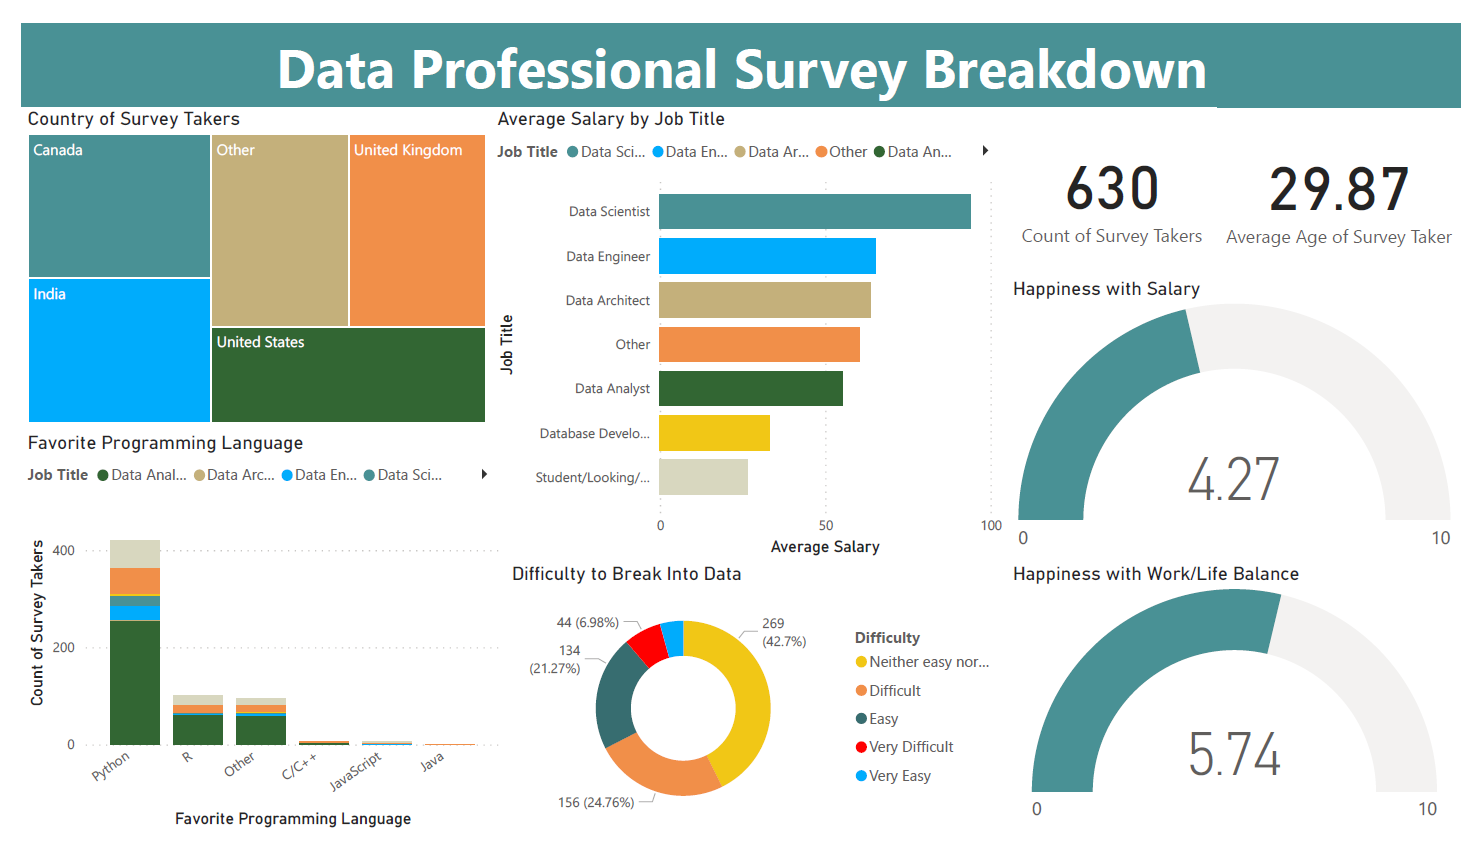

The page's visual inventory and layout, read from the dashboard file:
{"tool":"powerbi","page":{"name":"Page 1","canvas":[1280,720],"ordinal":0},"visuals":[{"type":"textbox","box":[0,0,1280.6,74.2],"z":0},{"type":"card","fields":{"Values":["Count(Data Professional Survey.Unique ID)"]},"box":[877,74,185.8,151],"z":1000},{"type":"card","fields":{"Values":["Avg(Data Professional Survey.Q10 - Current Age)"]},"box":[1062.8,75.5,217.8,149.5],"z":2000},{"type":"barChart","title":"Average Salary by Job Title","fields":{"Category":["Data Professional Survey.Q1 - Which Title Best Fits your Current Role?.1"],"Y":["Avg(Data Professional Survey.Average Salary)"],"Series":["Data Professional Survey.Q1 - Which Title Best Fits your Current Role?.1"]},"box":[418.2,74,458.8,403.6],"z":3000},{"type":"columnChart","title":"Favorite Programming Language","fields":{"Category":["Data Professional Survey.Q5 - Favorite Programming Language.1"],"Y":["CountNonNull(Data Professional Survey.Unique ID)"],"Series":["Data Professional Survey.Q1 - Which Title Best Fits your Current Role?.1"]},"box":[0,361.5,431.2,358.6],"z":4000},{"type":"treemap","title":"Country of Survey Takers","fields":{"Group":["Data Professional Survey.Q11 - Which Country do you live in?.1"],"Values":["Count(Data Professional Survey.Q11 - Which Country do you live in?.1)"]},"box":[0,74,418.2,286],"z":5000},{"type":"gauge","title":"Happiness with Work/Life Balance","fields":{"Y":["Avg(Data Professional Survey.Q6 - How Happy are you in your Current Position with the following? (Work/Life Balance))"],"MinValue":["Min(Data Professional Survey.Q6 - How Happy are you in your Current Position with the following? (Work/Life Balance))1"],"MaxValue":["Max(Data Professional Survey.Q6 - How Happy are you in your Current Position with the following? (Work/Life Balance))2"]},"box":[877,479.1,403.6,241],"z":6000},{"type":"gauge","title":"Happiness with Salary","fields":{"Y":["Avg(Data Professional Survey.Q6 - How Happy are you in your Current Position with the following? (Salary))"],"MinValue":["Min(Data Professional Survey.Q6 - How Happy are you in your Current Position with the following? (Salary))"],"MaxValue":["Max(Data Professional Survey.Q6 - How Happy are you in your Current Position with the following? (Salary))"]},"box":[877,225,403.6,252.6],"z":7000},{"type":"donutChart","title":"Difficulty to Break Into Data","fields":{"Category":["Data Professional Survey.Q7 - How difficult was it for you to break into Data?"],"Y":["CountNonNull(Data Professional Survey.Q7 - How difficult was it for you to break into Data?)"]},"box":[431.2,479.1,445.7,241],"z":8000}]}

Visuals, with their boxes in screenshot pixels (x1, y1, x2, y2), scaled from the page's 1280x720 canvas onto the 1482x852 screenshot:
textbox: [0, 0, 1481, 88]
card - Count(Data Professional Survey.Unique ID): [1015, 88, 1231, 266]
card - Avg(Data Professional Survey.Q10 - Current Age): [1231, 89, 1481, 266]
"Average Salary by Job Title" barChart: [484, 88, 1015, 565]
"Favorite Programming Language" columnChart: [0, 428, 499, 851]
"Country of Survey Takers" treemap: [0, 88, 484, 426]
"Happiness with Work/Life Balance" gauge: [1015, 567, 1481, 851]
"Happiness with Salary" gauge: [1015, 266, 1481, 565]
"Difficulty to Break Into Data" donutChart: [499, 567, 1015, 851]
